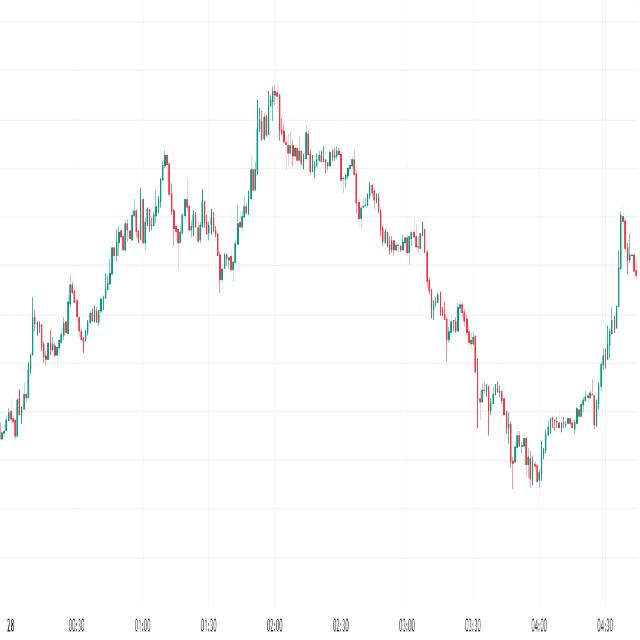Head-Shoulders: (99, 132, 223, 301)
Rounding-Bottom: (423, 272, 627, 504)
